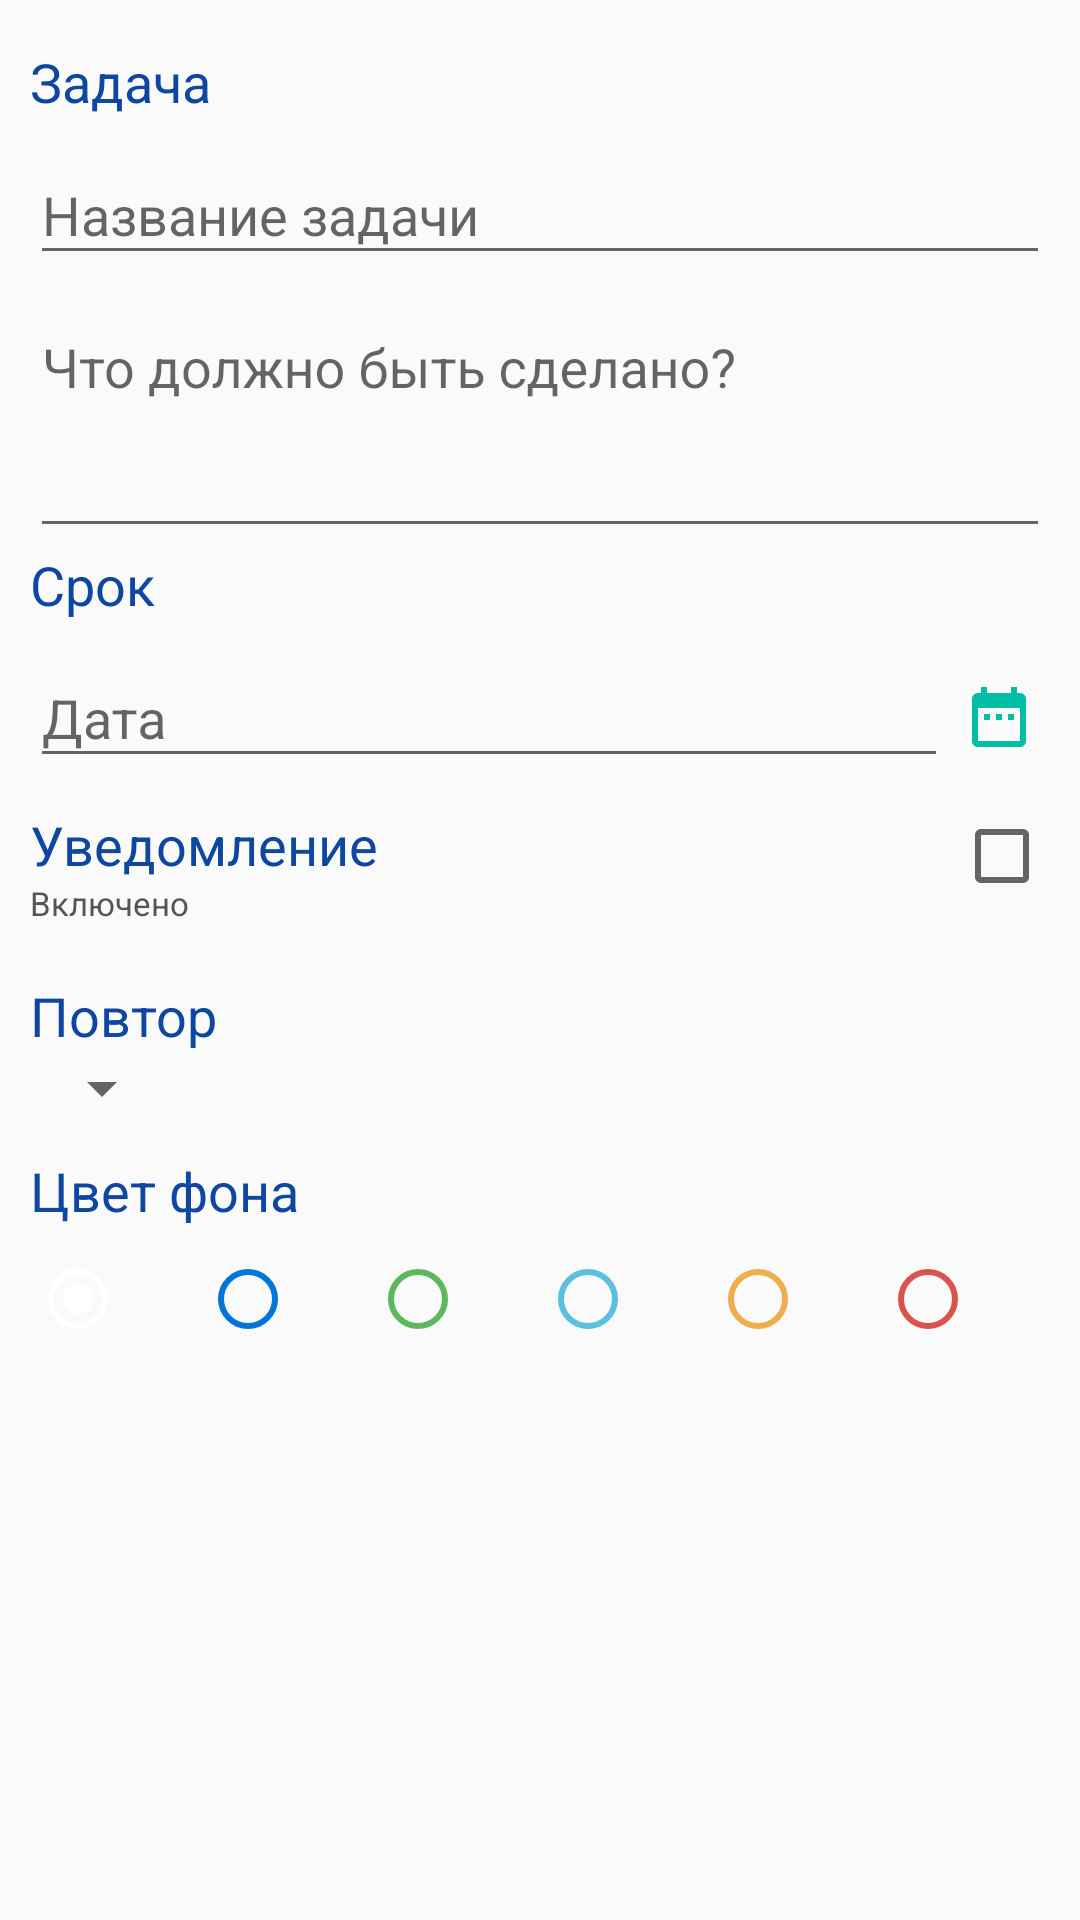

Icons on this 1080x1920 Android screen, each with the point to tap as point (x, y):
date range: point (999, 717)
